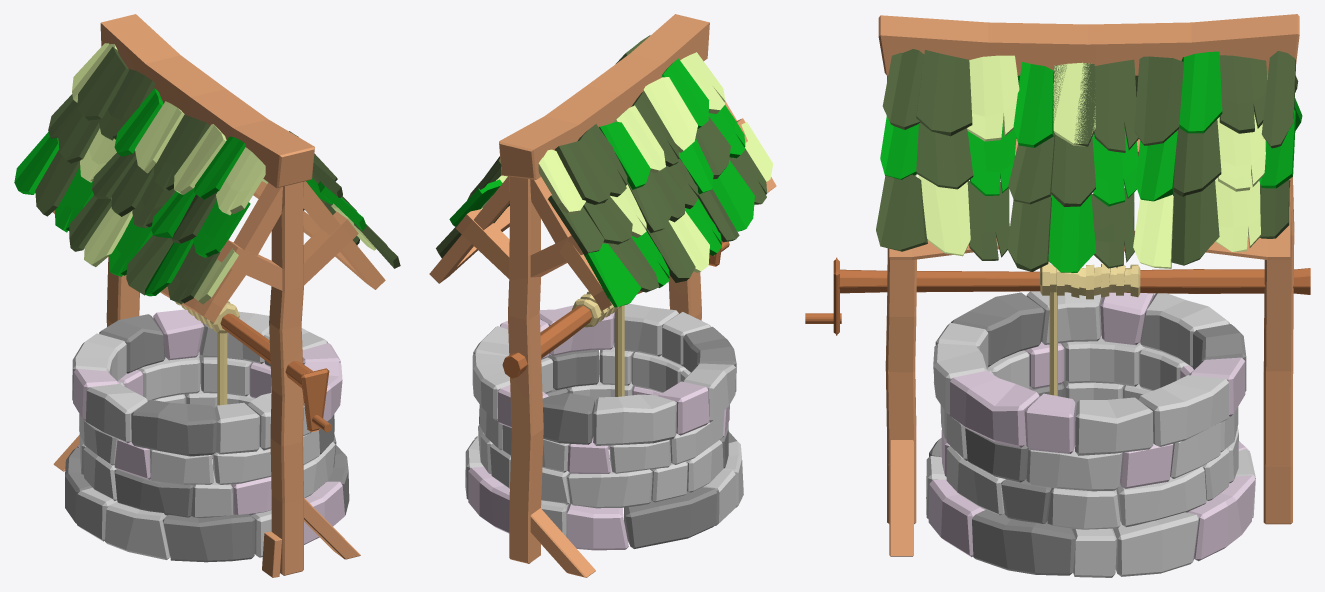
The model's file is well.fbx.
The picture shows the model from 3 angles, left to right: view 1: azimuth 30°, elevation 25°; view 2: azimuth 150°, elevation 25°; view 3: azimuth 270°, elevation 25°; orthographic projection. The views are drawn at different scales.
Parts seen in each view (by area): view 1: Plane.032; view 2: Plane.032; view 3: Plane.032.
Part boxes in pixels (x1,y1,x2,y2): Plane.032: [14, 14, 400, 577]; Plane.032: [429, 14, 776, 577]; Plane.032: [805, 14, 1310, 577].
Bounding box in the file's own units: 632 × 1037 × 957.
